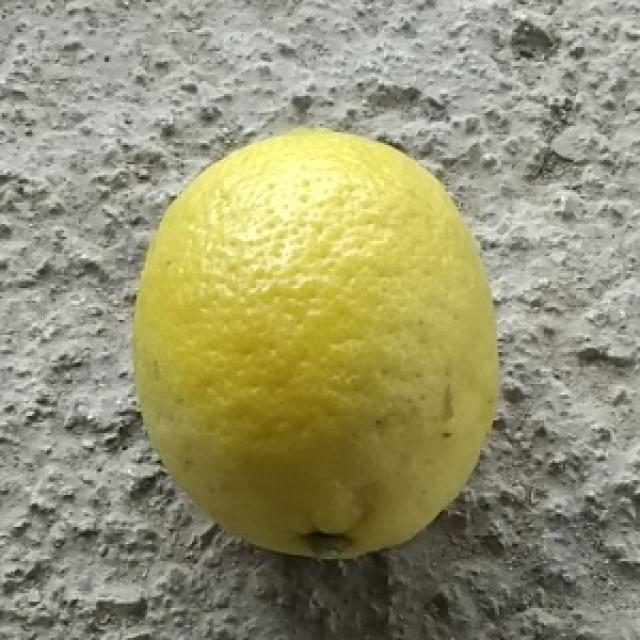Ripe: (126, 124, 507, 569)
